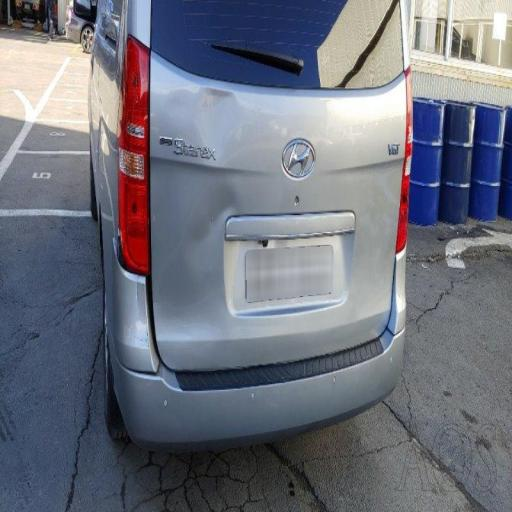dent: (154, 196, 274, 426), (155, 66, 294, 194)
